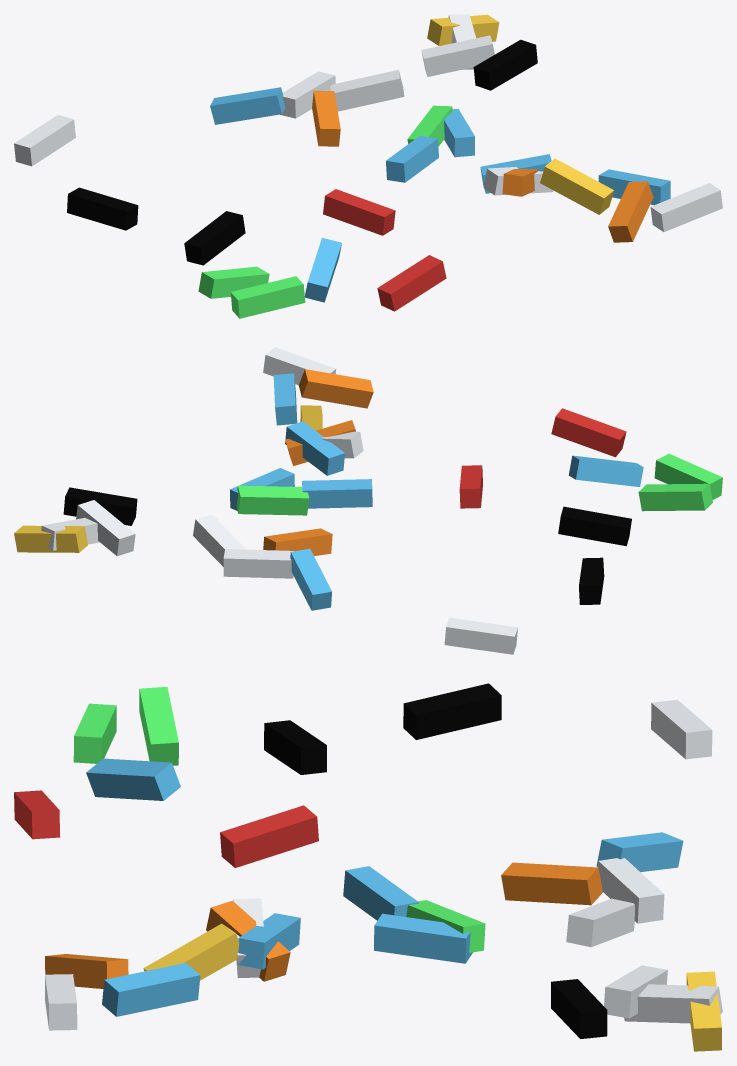
File: Sprinkles.fbx
The picture shows the model from 3 angles, top to bottom: view 1: azimuth 30°, elevation 25°; view 2: azimuth 150°, elevation 25°; view 3: azimuth 270°, elevation 25°; orthographic projection. The views are drawn at different scales.
Visible parts, largest first — view 1: Sprinkles; view 2: Sprinkles; view 3: Sprinkles.
Boxes of the visible parts, left/top/right/bottom form: Sprinkles: left=14, top=14, right=722, bottom=318; Sprinkles: left=14, top=347, right=722, bottom=654; Sprinkles: left=14, top=683, right=722, bottom=1051.
Bounding box in the file's own units: 0.9975 × 0.0729 × 0.8897.
2 materials, 2 textured.
